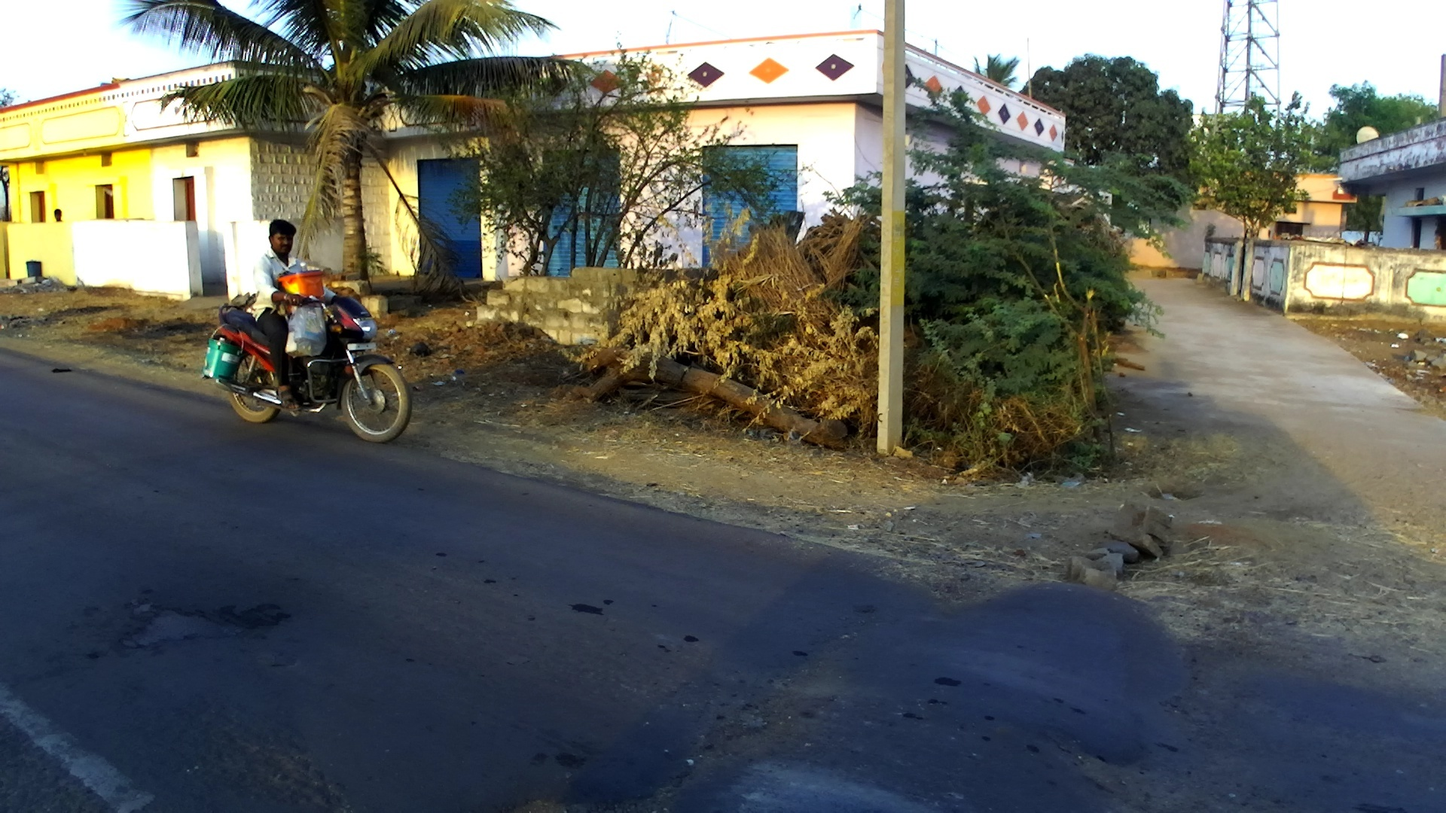motorcycle: (199, 272, 416, 443)
rider: (247, 214, 354, 415)
